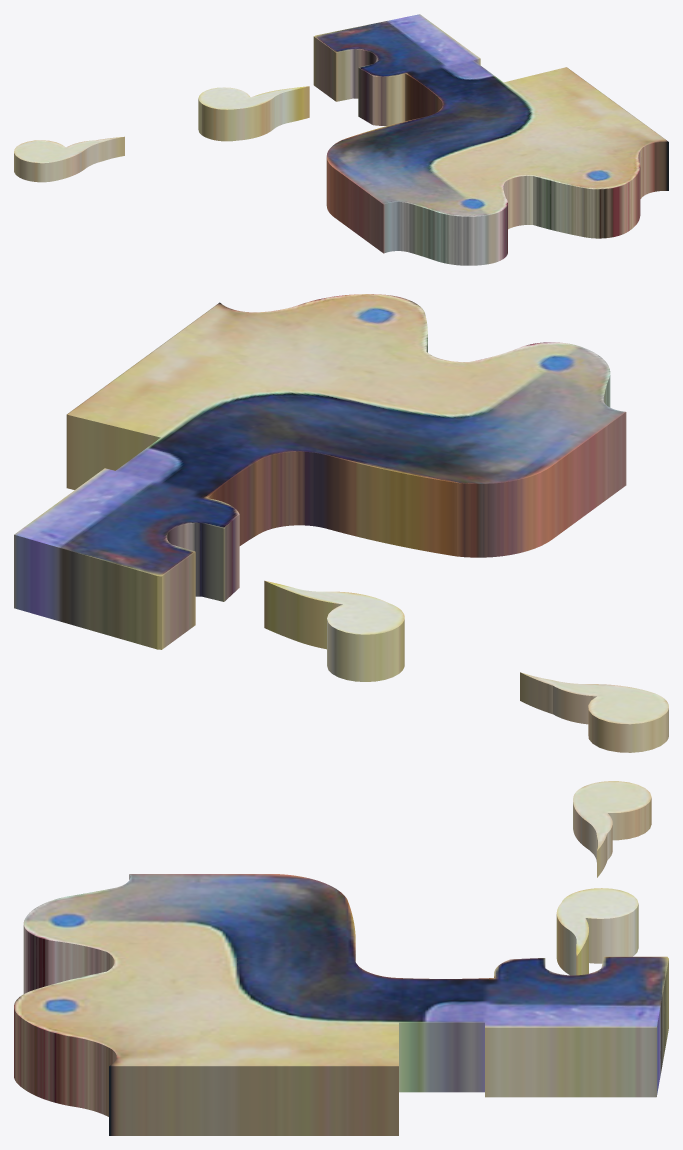
Rendered from el hombre y la ciencia 8.dae.
3 renders of one model, top to bottom at view 1: azimuth 30°, elevation 25°; view 2: azimuth 150°, elevation 25°; view 3: azimuth 270°, elevation 25°, orthographic. The views are drawn at different scales.
Visible parts, largest first — view 1: SketchUp (×3); view 2: SketchUp (×3); view 3: SketchUp (×3).
Boxes of the visible parts, x1,y1,x2,y2 form: SketchUp (×3): [14, 14, 668, 265]; SketchUp (×3): [14, 294, 668, 752]; SketchUp (×3): [14, 781, 668, 1135].
Bounding box in the file's own units: 37.24 × 31.46 × 3.69.
2 materials, 1 textured.
